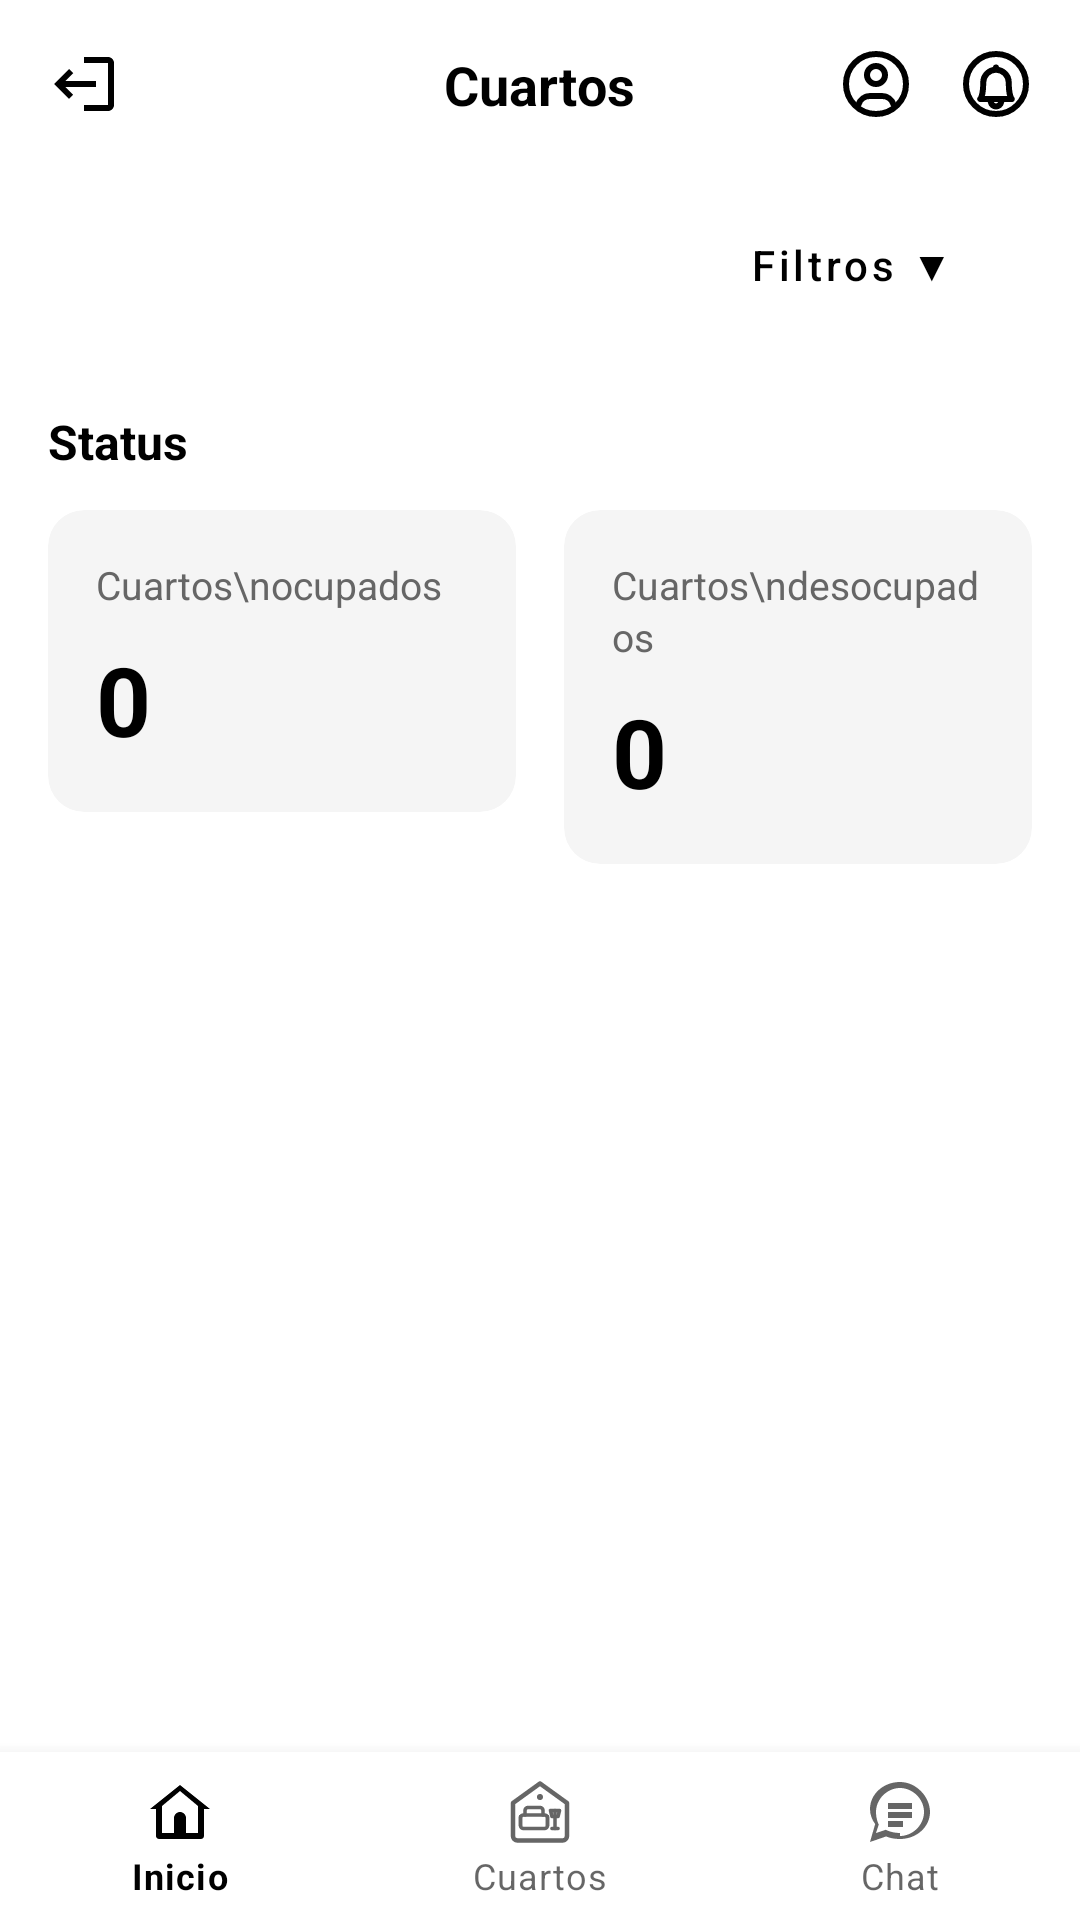

Point at icon controls on the screen. Image size 1080 x 1920, points as [x,y].
Notificaciones: [996,84]
Perfil: [876,84]
